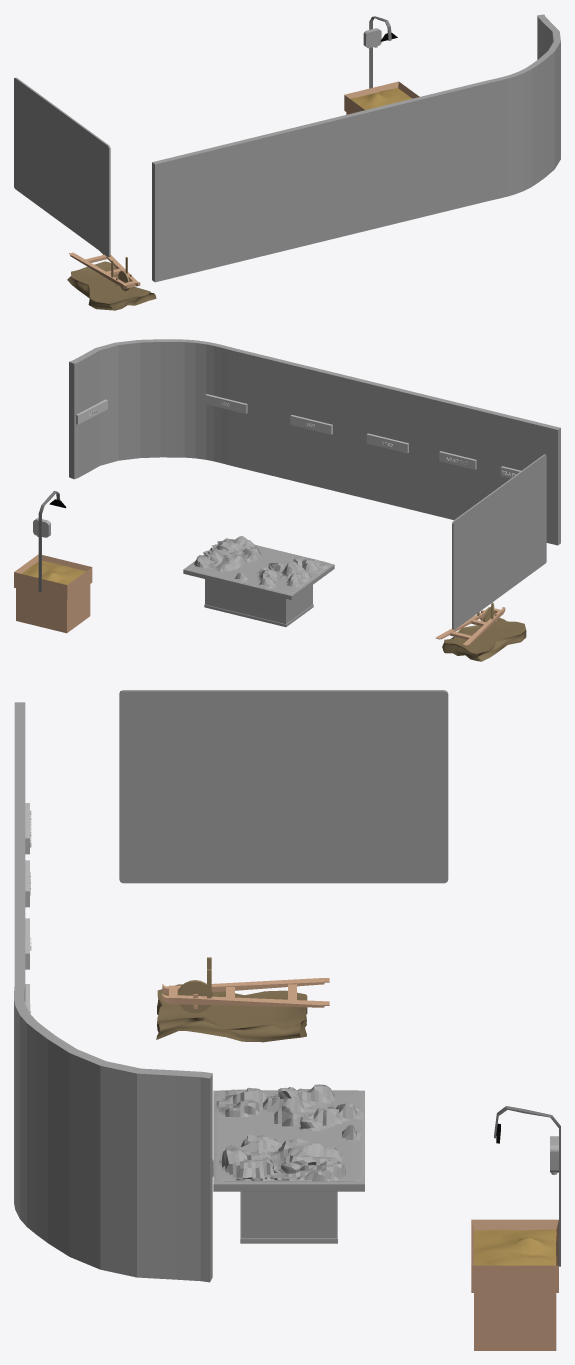
Rendered from Ruangan5_gabungan_fix.fbx.
The picture shows the model from 3 angles, top to bottom: view 1: azimuth 30°, elevation 25°; view 2: azimuth 150°, elevation 25°; view 3: azimuth 270°, elevation 25°; orthographic projection. The views are drawn at different scales.
Visible parts, largest first — view 1: LINTASSEJARAHTIMAHINDONESIA_RUANGAN5, SARANADARIMASAKEMASA_RUANGAN5, pCube269, INFOCUS_AR_RUANGAN5, gerobakjamandulu_ruangan5; view 2: LINTASSEJARAHTIMAHINDONESIA_RUANGAN5, SARANADARIMASAKEMASA_RUANGAN5, INFOCUS_AR_RUANGAN5, PETAGEOLOGI_RUANGAN5, pCube257, pCube269, gerobakjamandulu_ruangan5, RUANGAN6, RUANGAN8, RUANGAN7, ABAD_7_17_RUANGAN5; view 3: SARANADARIMASAKEMASA_RUANGAN5, LINTASSEJARAHTIMAHINDONESIA_RUANGAN5, PETAGEOLOGI_RUANGAN5, INFOCUS_AR_RUANGAN5, pCube257, pCube269, gerobakjamandulu_ruangan5.
Part boxes in pixels (x1=…): LINTASSEJARAHTIMAHINDONESIA_RUANGAN5: x1=152, y1=14, x2=560, y2=282; SARANADARIMASAKEMASA_RUANGAN5: x1=14, y1=77, x2=110, y2=256; pCube269: x1=67, y1=261, x2=156, y2=310; INFOCUS_AR_RUANGAN5: x1=344, y1=16, x2=419, y2=114; gerobakjamandulu_ruangan5: x1=69, y1=251, x2=140, y2=290; LINTASSEJARAHTIMAHINDONESIA_RUANGAN5: x1=69, y1=339, x2=560, y2=545; SARANADARIMASAKEMASA_RUANGAN5: x1=452, y1=454, x2=546, y2=629; INFOCUS_AR_RUANGAN5: x1=14, y1=491, x2=92, y2=633; PETAGEOLOGI_RUANGAN5: x1=186, y1=536, x2=331, y2=593; pCube257: x1=183, y1=538, x2=334, y2=626; pCube269: x1=442, y1=617, x2=526, y2=661; gerobakjamandulu_ruangan5: x1=435, y1=602, x2=505, y2=645; RUANGAN6: x1=205, y1=394, x2=247, y2=413; RUANGAN8: x1=366, y1=433, x2=408, y2=453; RUANGAN7: x1=290, y1=415, x2=332, y2=434; ABAD_7_17_RUANGAN5: x1=439, y1=451, x2=476, y2=469; SARANADARIMASAKEMASA_RUANGAN5: x1=119, y1=690, x2=448, y2=883; LINTASSEJARAHTIMAHINDONESIA_RUANGAN5: x1=14, y1=702, x2=212, y2=1282; PETAGEOLOGI_RUANGAN5: x1=214, y1=1084, x2=363, y2=1181; INFOCUS_AR_RUANGAN5: x1=471, y1=1106, x2=560, y2=1350; pCube257: x1=213, y1=1090, x2=364, y2=1243; pCube269: x1=156, y1=984, x2=307, y2=1042; gerobakjamandulu_ruangan5: x1=162, y1=957, x2=329, y2=1013.
Bounding box in the file's own units: 14.54 × 5.45 × 8.63.
